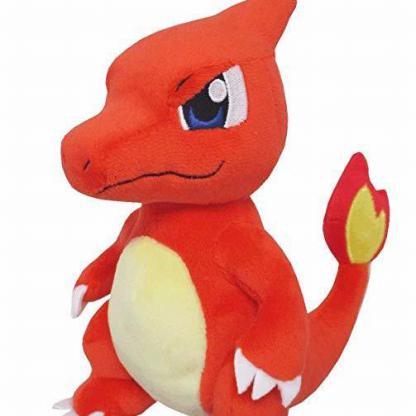Charmeleon: (41, 6, 408, 416)
